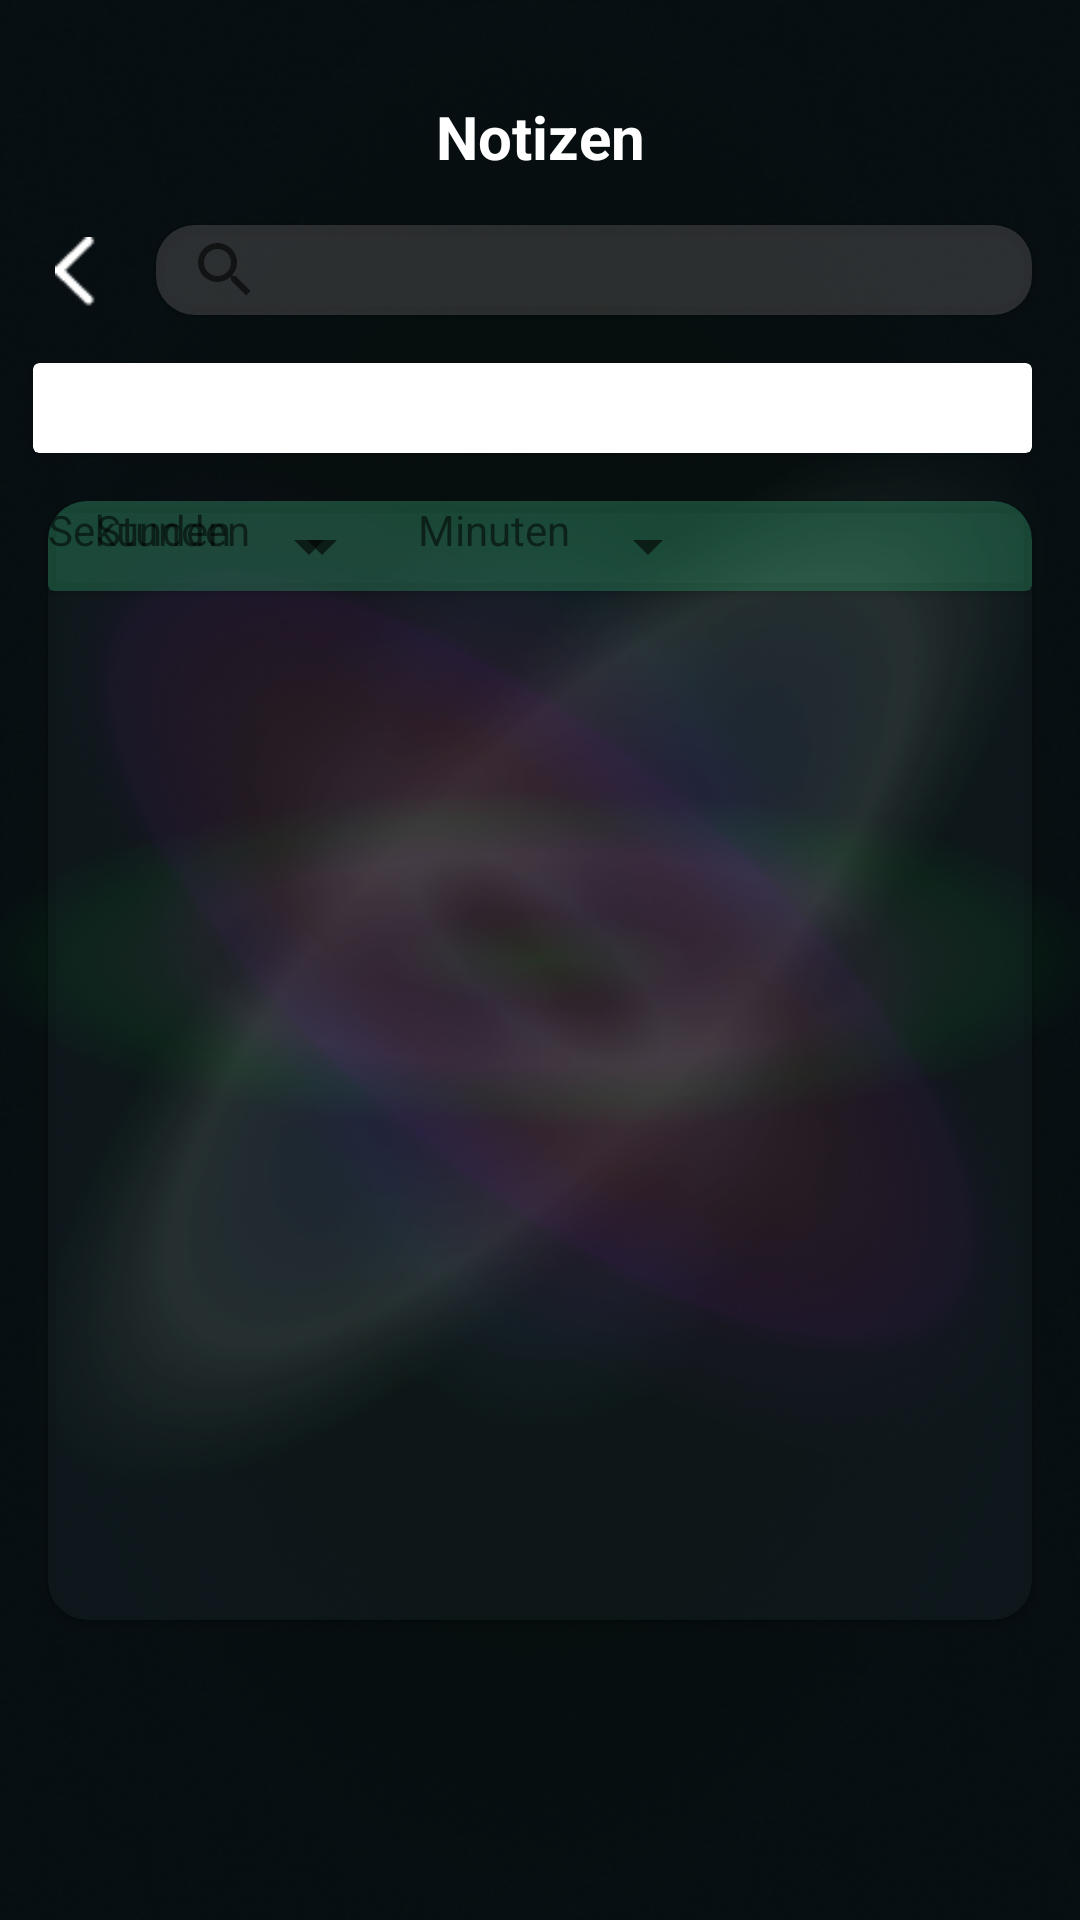

Icon click points for this 1080 x 1920 phone screenshot, format point (x, y):
backbutton: point (75, 271)
